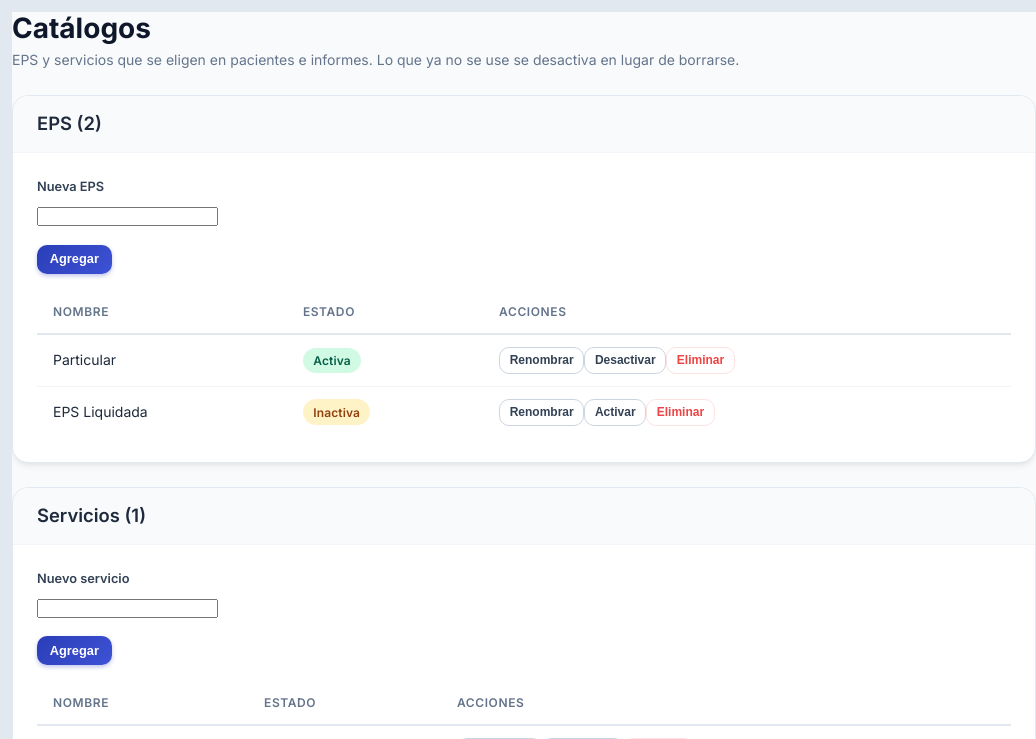
Test: CatalogosPage › muestra el error de nombre repetido
In the field labelled "Nueva EPS": coordinates (128, 217) [37,207,218,226], type "particular"
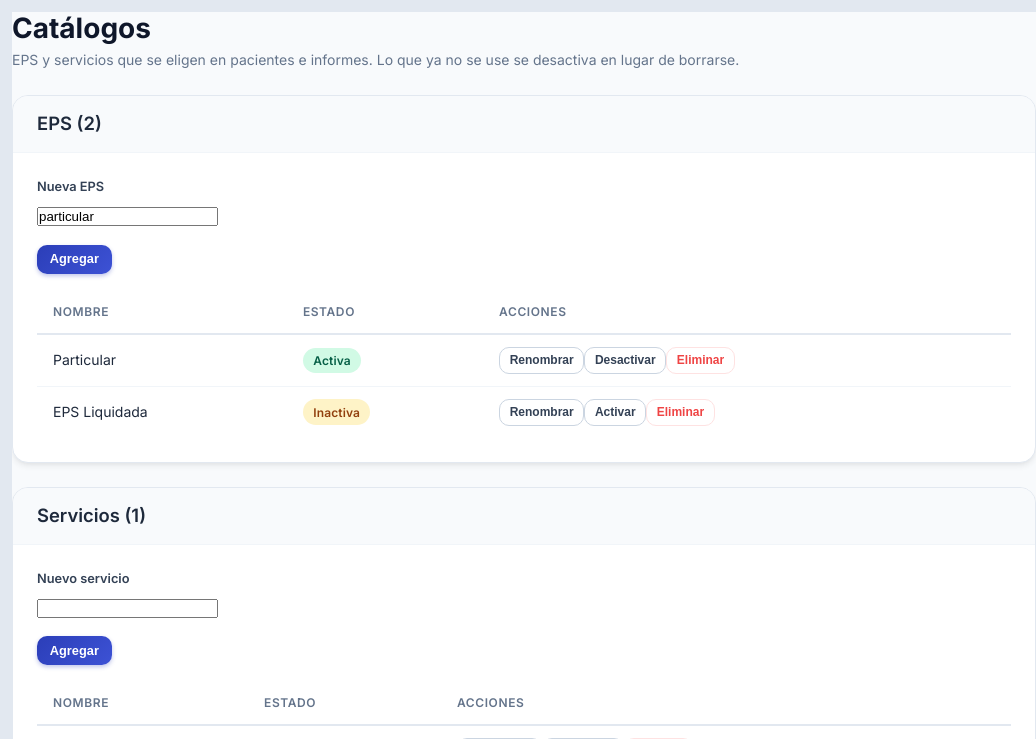
Click the button "Agregar" below "Nueva EPS": coordinates (74, 259) [37,245,112,274]
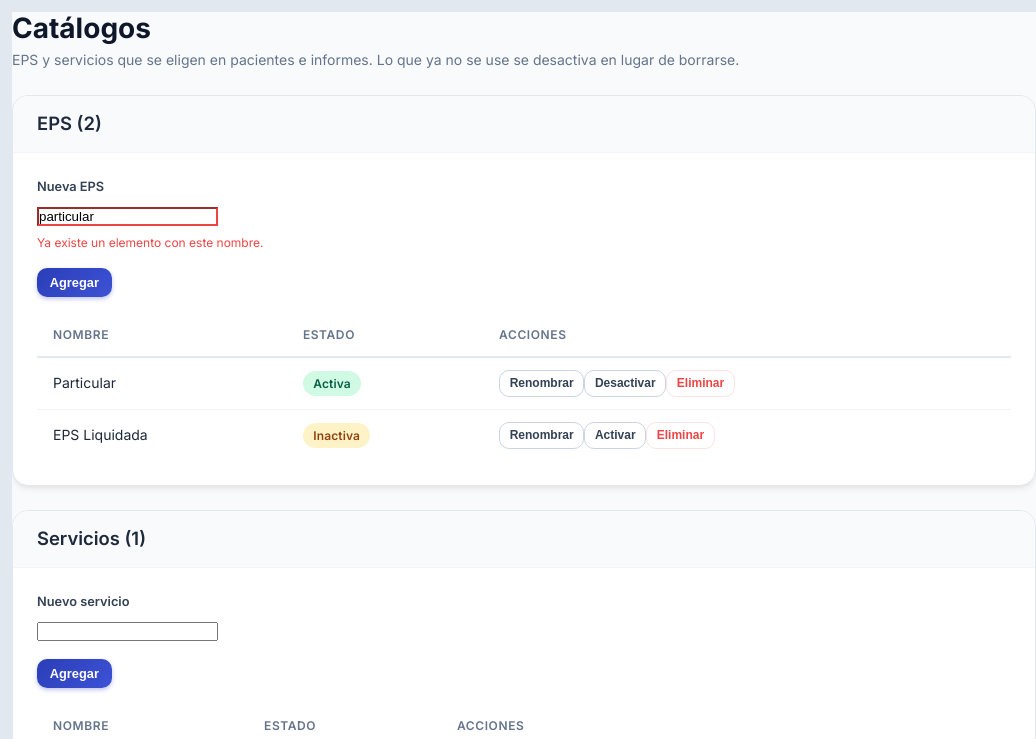
Expected: the text "Ya existe un elemento con este nombre." is shown, [37,235,264,250]
